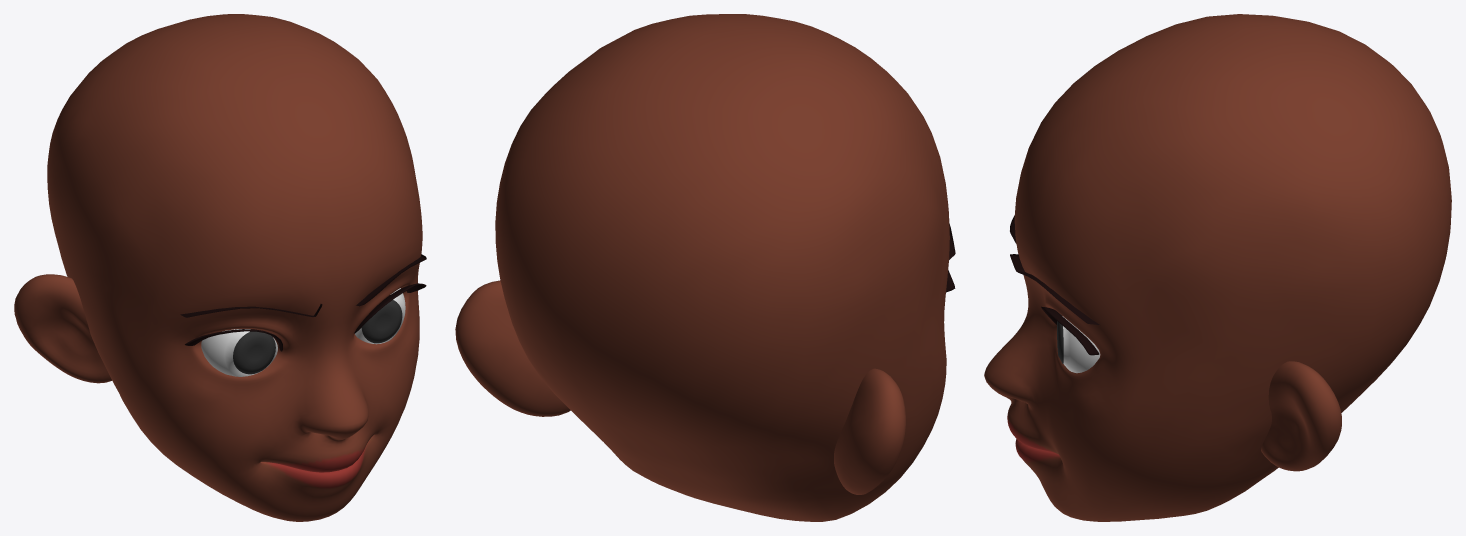
3 renders of one model, left to right at view 1: azimuth 30°, elevation 25°; view 2: azimuth 150°, elevation 25°; view 3: azimuth 270°, elevation 25°, orthographic. The views are drawn at different scales.
Visible parts, largest first — view 1: skin, ears, eyes, brows; view 2: skin, ears; view 3: skin, ears, brows, eyes.
Boxes of the visible parts, bbox=[...] form: skin: bbox=[47, 14, 422, 521]; ears: bbox=[14, 274, 111, 383]; eyes: bbox=[201, 288, 405, 376]; brows: bbox=[180, 254, 426, 351]; skin: bbox=[495, 14, 949, 521]; ears: bbox=[455, 280, 905, 494]; skin: bbox=[984, 14, 1451, 521]; ears: bbox=[1261, 361, 1341, 471]; brows: bbox=[1010, 215, 1099, 355]; eyes: bbox=[1057, 314, 1100, 373].
Size of the model in its own units: 1.8 by 2 by 1.8.
11 materials, 1 textured.
